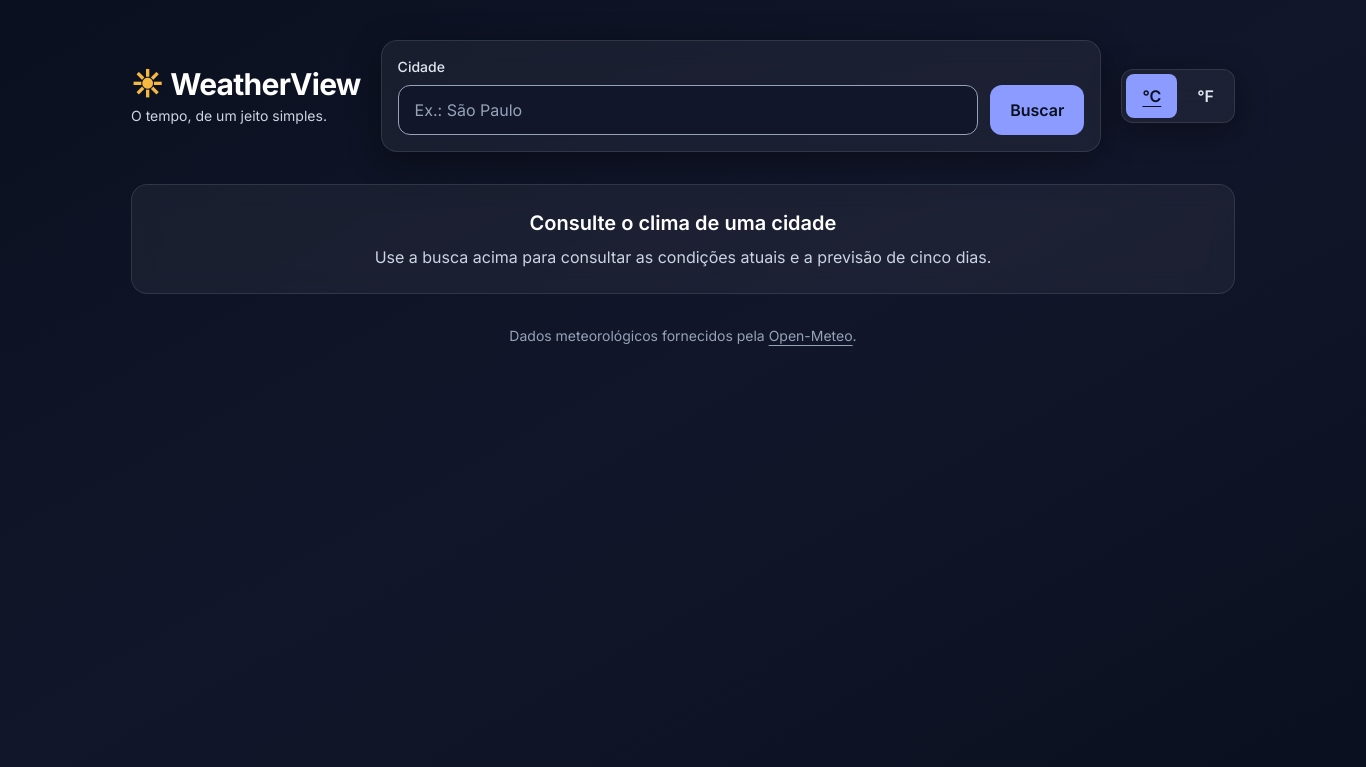
Test: App › permite trocar unidade durante loading e aplica a unidade vigente ao receber dados
This screenshot has width=1366, height=767.
Type "Salvador" into the search field labelled "Cidade". click: (688,110)
box: [398, 85, 978, 135]
Then press Enter
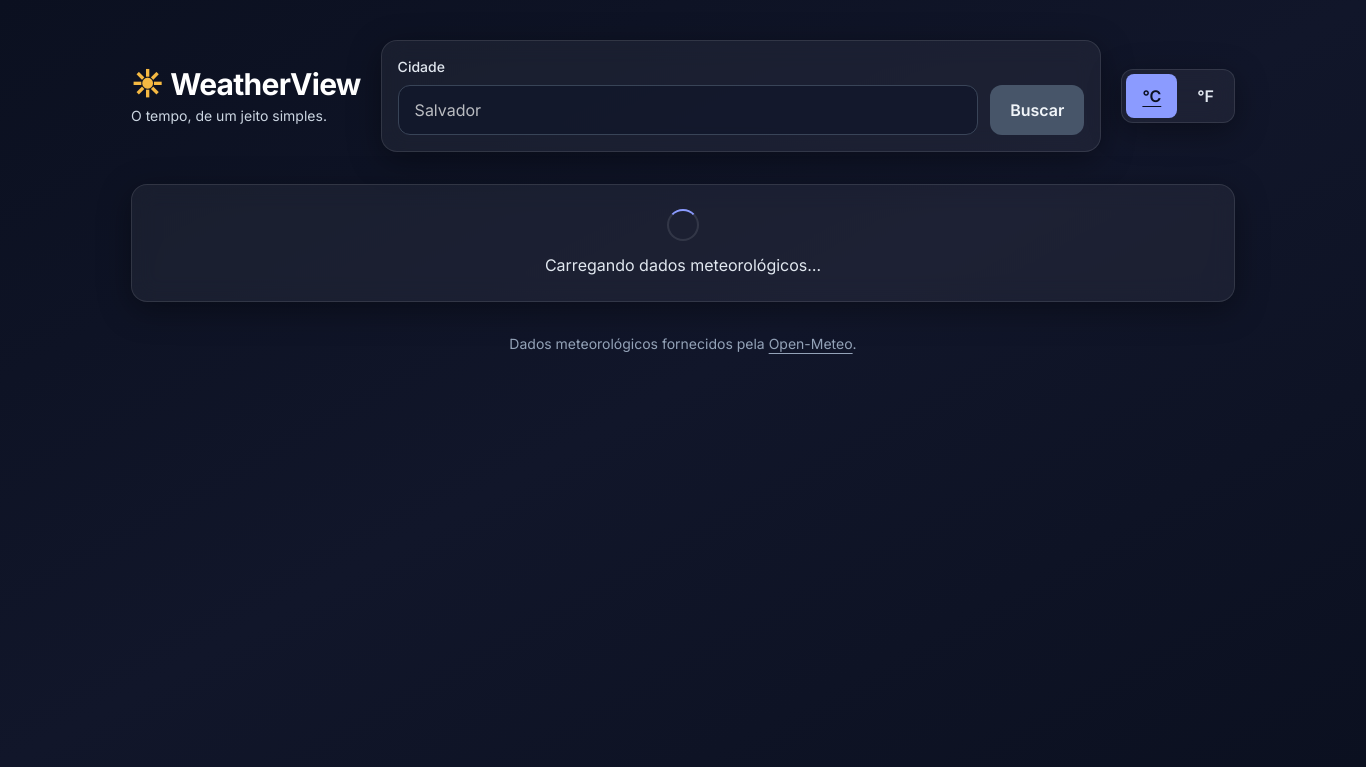
Click the button "°F". click: (1206,96)
box: [1181, 74, 1230, 118]
(page scrolled)
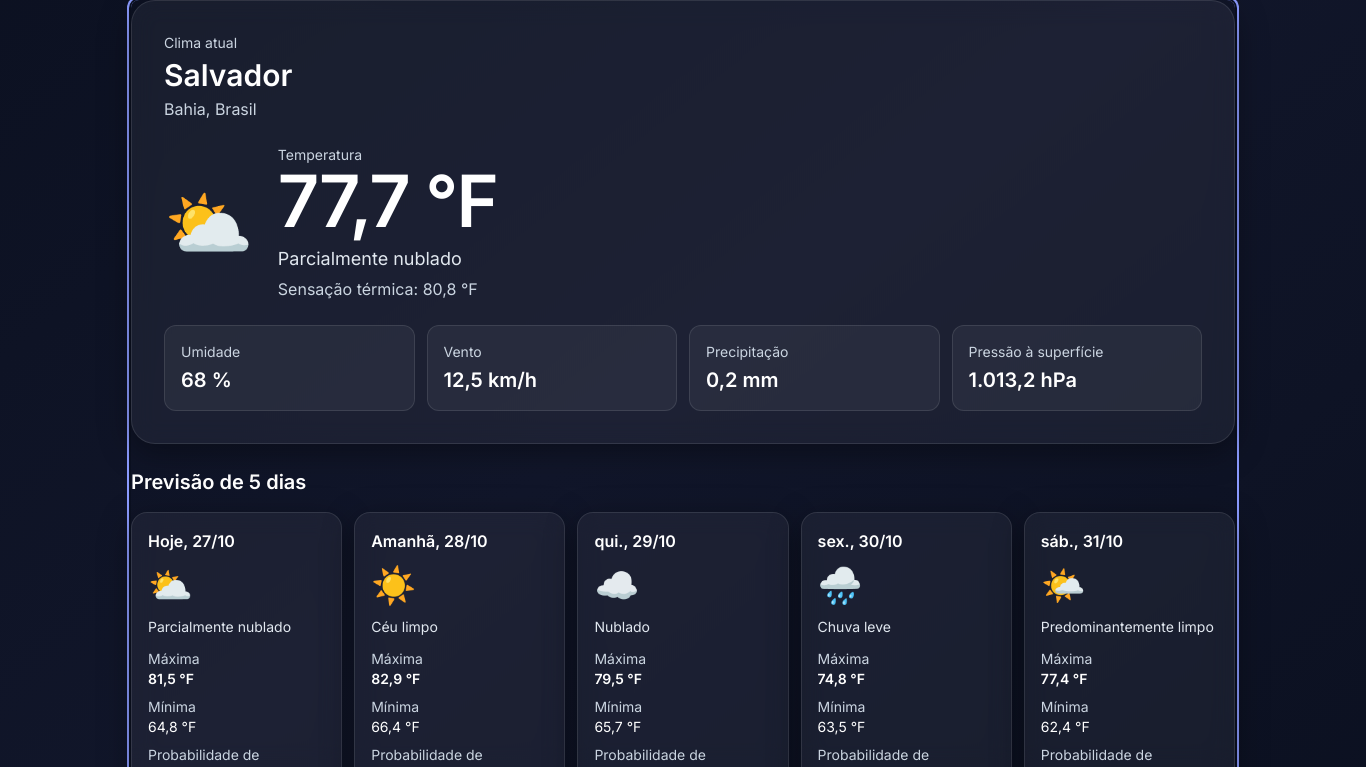
Check: the text "77,7 °F" is shown, box [278, 165, 497, 237]
